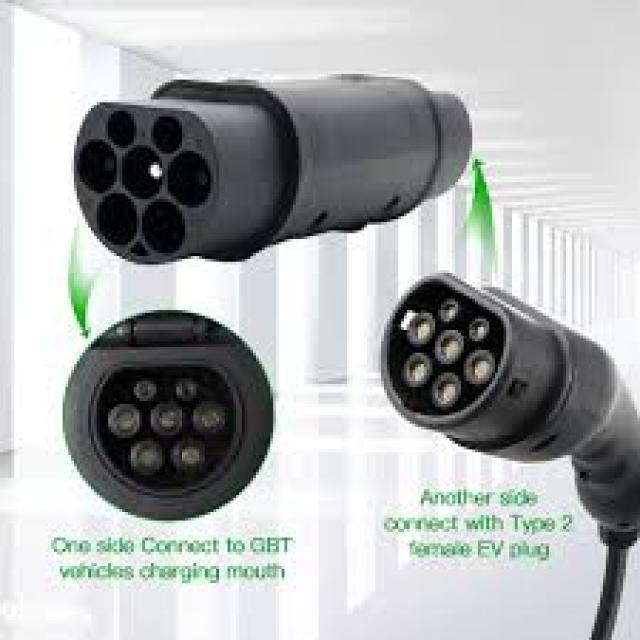Type 2: (51, 319, 296, 525)
